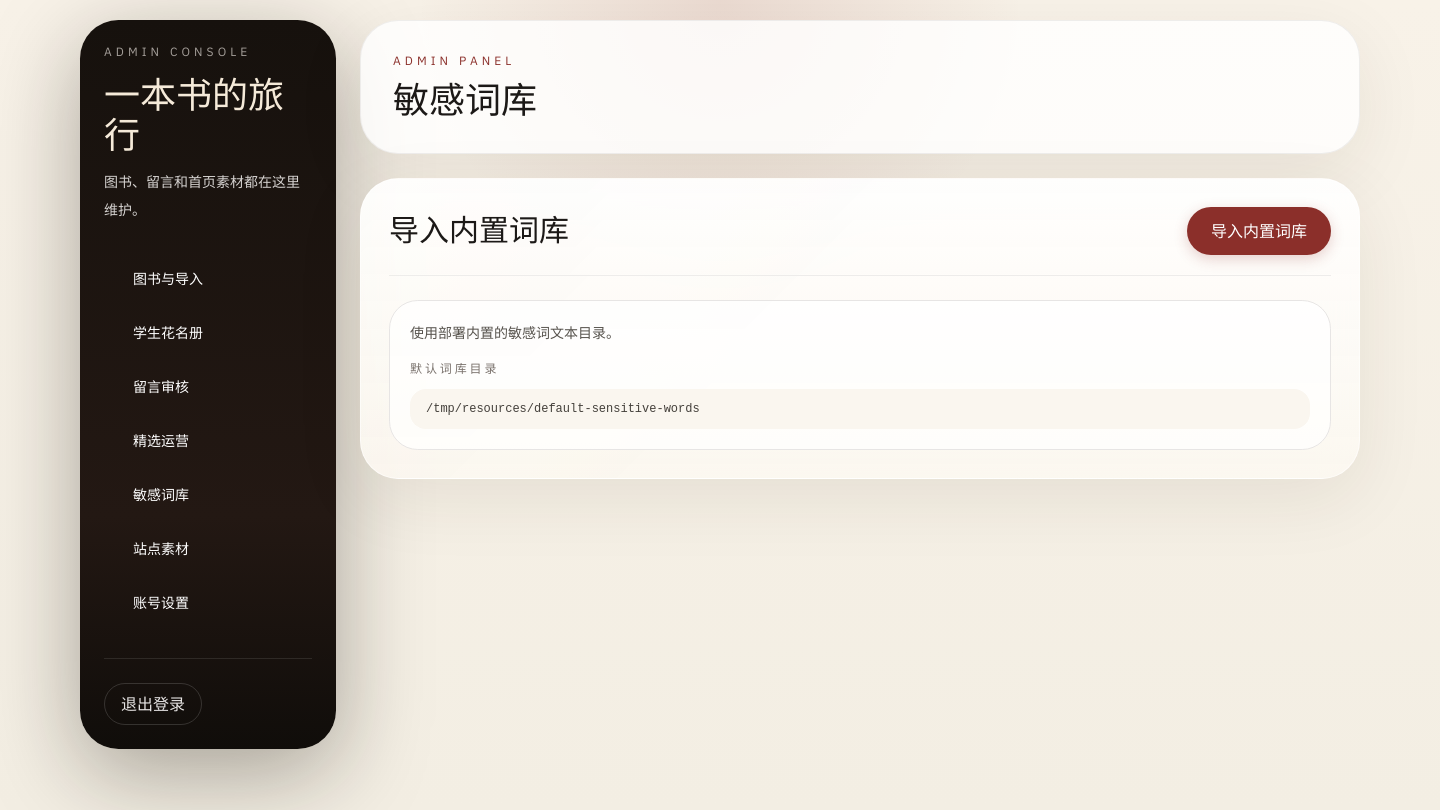
it: SensitiveWordsPage › imports the default dictionary and shows summary
The image size is (1440, 810).
Click the button "导入内置词库". click: [1259, 231]
box: [1187, 207, 1331, 255]
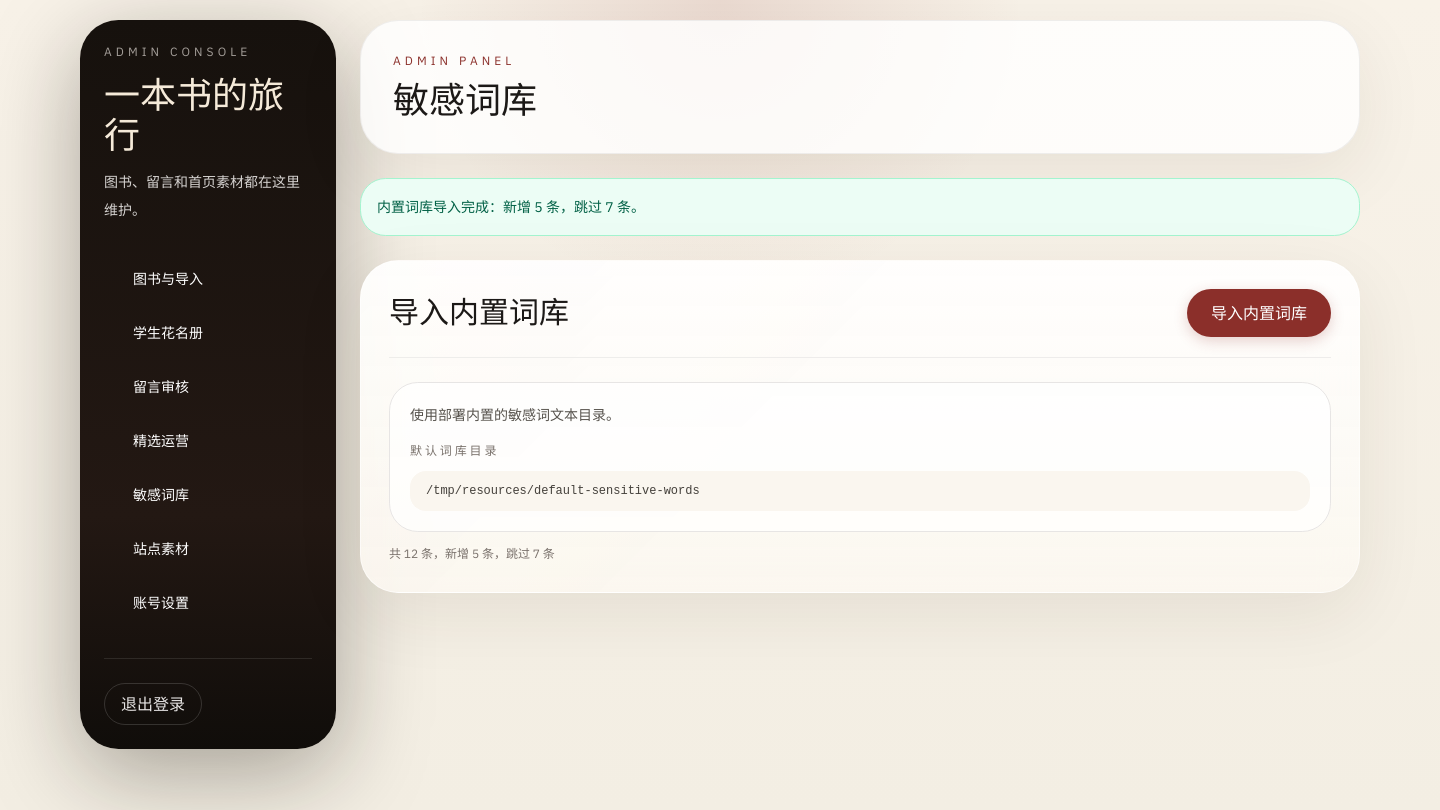
Expected: the text "内置词库导入完成：新增 5 条，跳过 7 条。" is shown, [360, 178, 1360, 236]
Expected: the text "共 12 条，新增 5 条，跳过 7 条" is shown, [389, 546, 555, 561]
